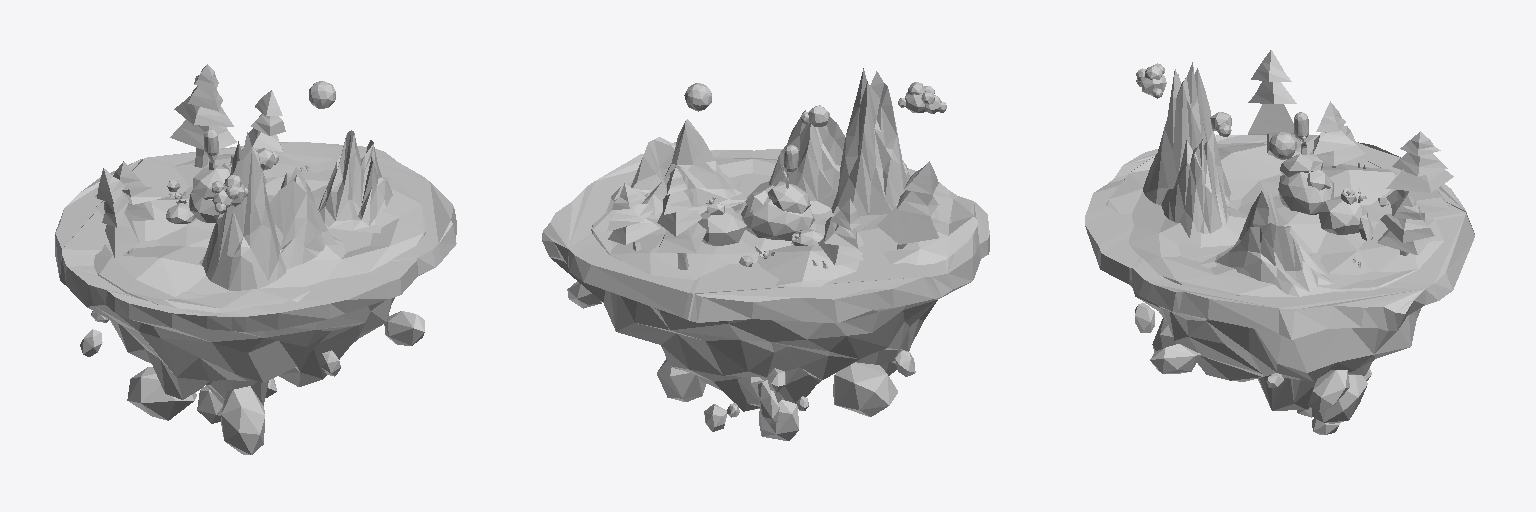
The model's file is island2.obj.
The picture shows the model from 3 angles: view 1: azimuth 30°, elevation 25°; view 2: azimuth 150°, elevation 25°; view 3: azimuth 270°, elevation 25°; orthographic projection.
Visible parts, largest first — view 1: clloud; view 2: clloud; view 3: clloud.
Part boxes in pixels (x1,y1,x2,y2): clloud: (55, 64, 456, 454); clloud: (542, 68, 989, 440); clloud: (1085, 50, 1474, 434).
Bounding box in the file's own units: 307 × 265 × 278.